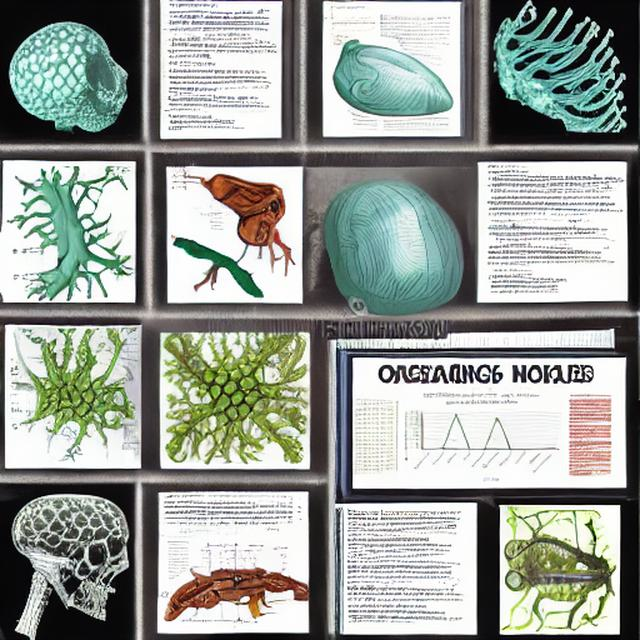Graph: (399, 388, 562, 487), (325, 2, 379, 33)
